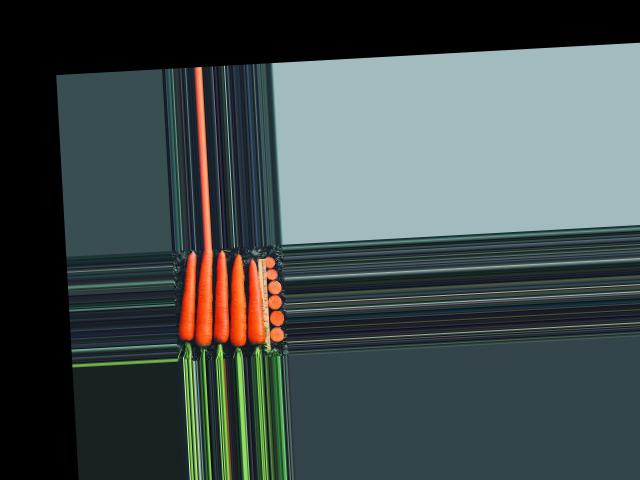carrot: (244, 253, 270, 352)
